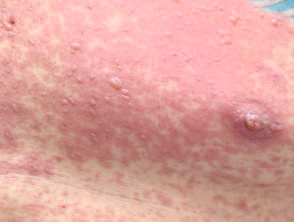SJS-TEN: (8, 19, 168, 171), (213, 77, 294, 164)
